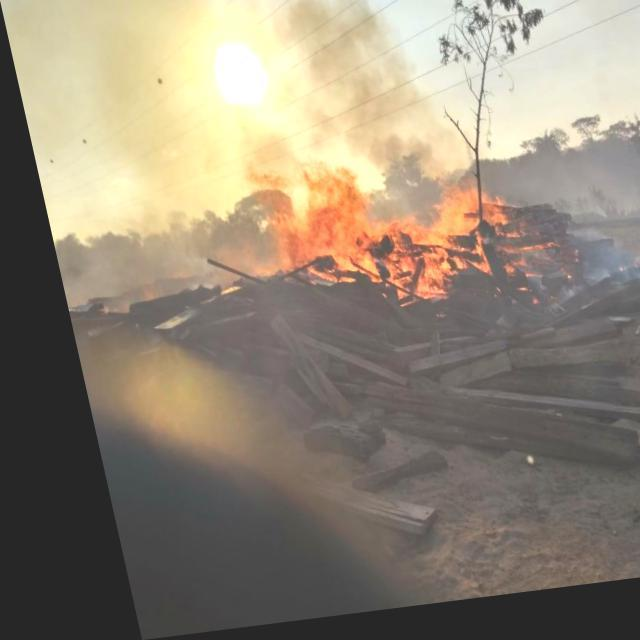Fire: (245, 150, 542, 314)
